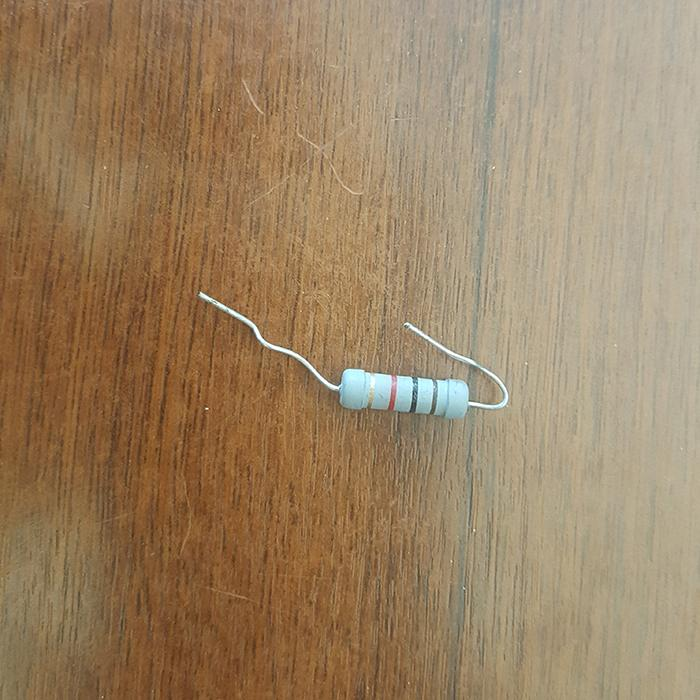resistor: (336, 367, 469, 418)
